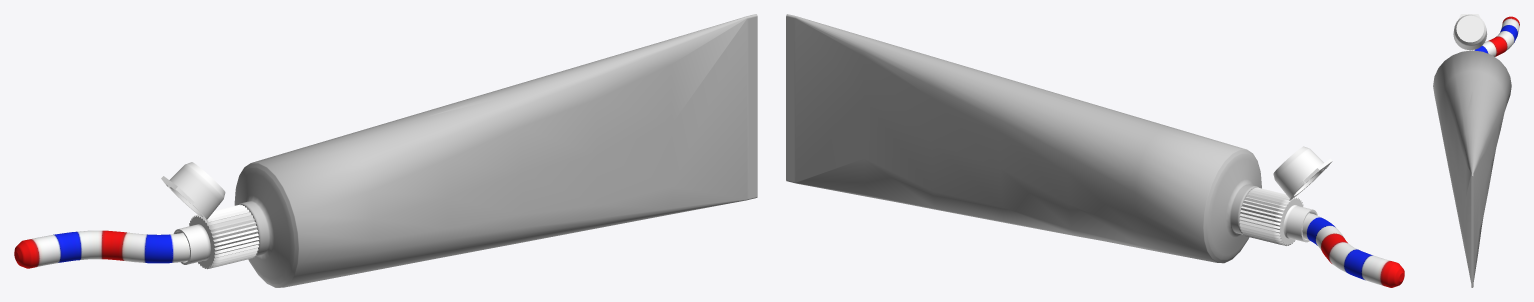
The model's file is toothpaste.fbx.
The picture shows the model from 3 angles, left to right: view 1: azimuth 30°, elevation 25°; view 2: azimuth 150°, elevation 25°; view 3: azimuth 270°, elevation 25°; orthographic projection. The views are drawn at different scales.
Visible parts, largest first — view 1: Loft01, Loft02, Loft03; view 2: Loft01, Loft02, Loft03; view 3: Loft01, Loft02, Loft03.
Boxes of the visible parts, x1,y1,x2,y2 form: Loft01: [234, 14, 757, 287]; Loft02: [161, 162, 259, 269]; Loft03: [14, 230, 189, 268]; Loft01: [786, 14, 1261, 263]; Loft02: [1239, 146, 1332, 245]; Loft03: [1302, 213, 1404, 287]; Loft01: [1433, 50, 1511, 287]; Loft02: [1453, 14, 1487, 50]; Loft03: [1474, 16, 1519, 56].
Size of the model in its own units: 564 by 140 by 98.17.
